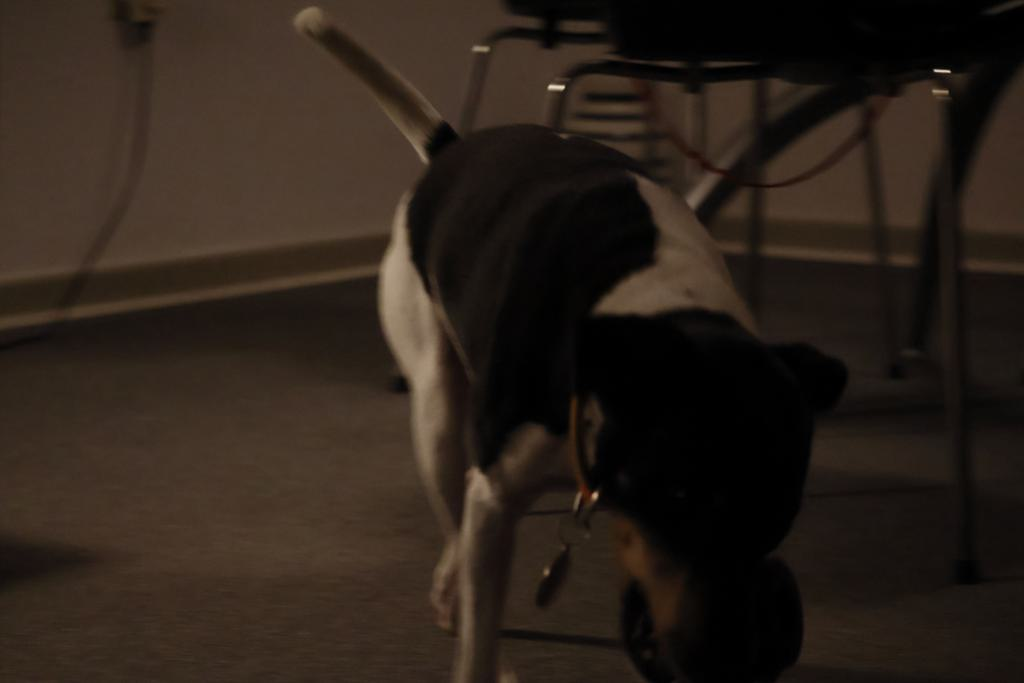Dog: (285, 2, 866, 683)
